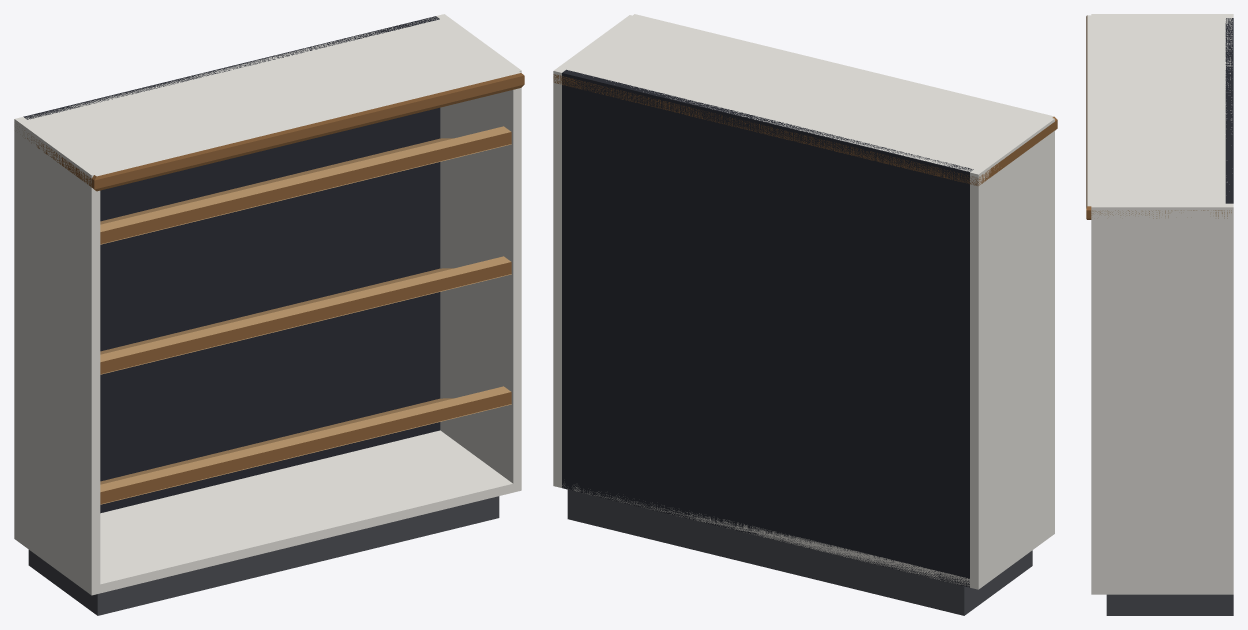
Rendered from FN_Cabinet_Shoe.glb.
3 renders of one model, left to right at view 1: azimuth 30°, elevation 25°; view 2: azimuth 150°, elevation 25°; view 3: azimuth 270°, elevation 25°, orthographic. The views are drawn at different scales.
Visible parts, largest first — view 1: FN_Cabinet_Shoe; view 2: FN_Cabinet_Shoe; view 3: FN_Cabinet_Shoe.
Part boxes in pixels (<box>): FN_Cabinet_Shoe: <box>14,14,524,615</box>; FN_Cabinet_Shoe: <box>553,14,1057,615</box>; FN_Cabinet_Shoe: <box>1086,14,1233,615</box>.
Bounding box in the file's own units: 0.9 × 0.9 × 0.29.
Materials: 1 (1 with a texture image).
